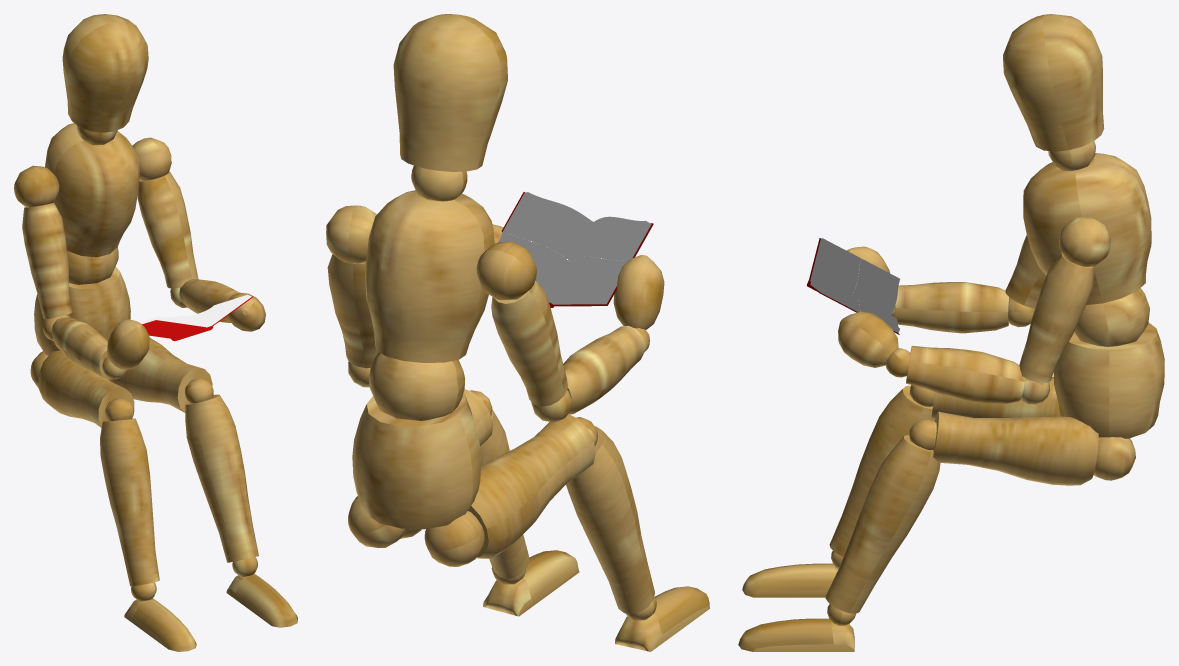
The model's file is man_read.obj.
3 views of the same model, side by side, from view 1: azimuth 30°, elevation 25°; view 2: azimuth 150°, elevation 25°; view 3: azimuth 270°, elevation 25° (orthographic). The views are drawn at different scales.
Parts seen in each view (by area): view 1: chest, head, lShin, rShin, rShldr, lShldr, rThigh, lThigh, hip, lFoot, rFoot, rForeArm (+4 smaller); view 2: chest, head, hip, rThigh, book, rShldr, rShin, lShldr, rForeArm, rFoot, lFoot, rHand (+2 smaller); view 3: chest, head, lThigh, lShin, hip, lShldr, lForeArm, rForeArm, book, rShin, lFoot, lHand (+3 smaller).
Boxes of the visible parts, x1,y1,x2,y2 form: chest: (45,123,140,284); head: (62,14,148,145); lShin: (185,378,258,562); rShin: (100,397,159,586); rShldr: (14,165,72,319); lShldr: (132,137,198,288); rThigh: (30,350,134,427); lThigh: (109,338,212,412); hip: (34,266,130,355); lFoot: (226,557,297,627); rFoot: (124,582,196,651); rForeArm: (42,314,112,379); chest: (365,190,494,420); head: (393,14,507,201); hip: (352,393,481,529); rThigh: (424,414,595,566); book: (498,192,653,307); rShldr: (476,241,567,406); rShin: (566,417,654,613); lShldr: (326,205,378,368); rForeArm: (531,325,644,422); rFoot: (615,586,709,651); lFoot: (483,550,579,616); rHand: (613,255,664,351); chest: (1023,153,1151,346); head: (1003,14,1104,170); lThigh: (933,411,1135,485); lShin: (825,419,940,613); hip: (1053,322,1164,438); lShldr: (1019,216,1110,383); lForeArm: (906,345,1049,404); rForeArm: (893,282,1034,333); book: (806,238,899,334); rShin: (829,385,935,556); lFoot: (738,604,855,651); lHand: (838,311,910,377).
Bounding box in the file's own units: 0.1741 × 0.512 × 0.3296.
Materials: 8 (2 with a texture image).
